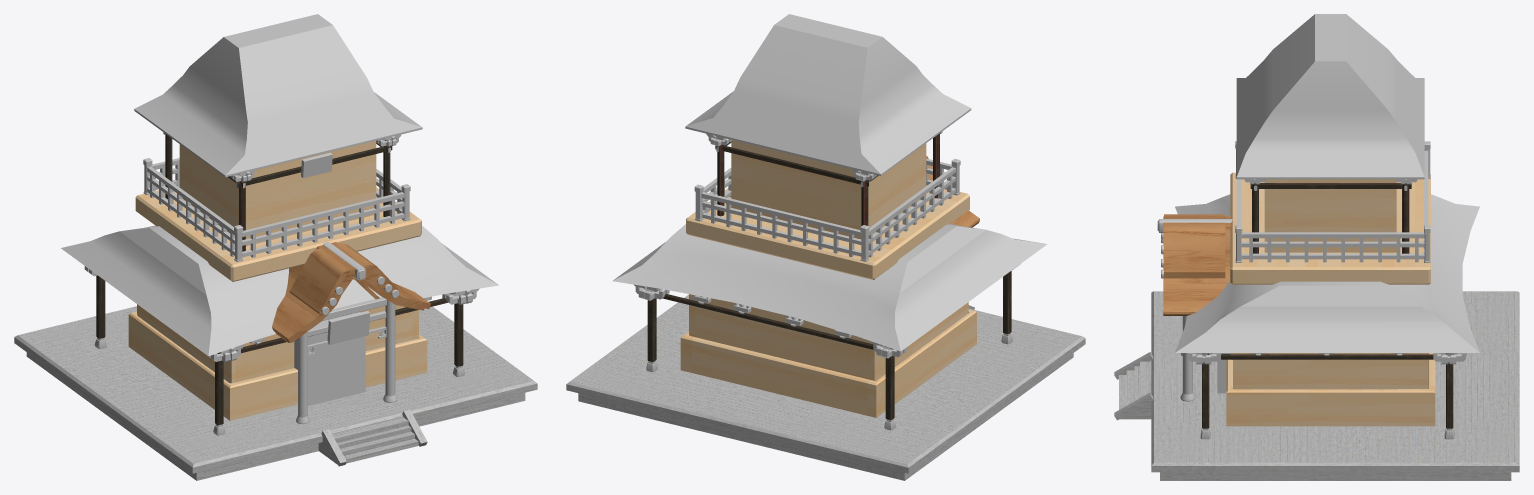
Rendered from jiulou.fbx.
The picture shows the model from 3 angles, left to right: view 1: azimuth 30°, elevation 25°; view 2: azimuth 150°, elevation 25°; view 3: azimuth 270°, elevation 25°; orthographic projection. The views are drawn at different scales.
Parts seen in each view (by area): view 1: jiulou; view 2: jiulou; view 3: jiulou.
Part boxes in pixels (<box>): jiulou: <box>14,14,537,480</box>; jiulou: <box>566,14,1085,480</box>; jiulou: <box>1114,14,1519,480</box>.
Size of the model in its own units: 8.79 by 8.51 by 8.68.
